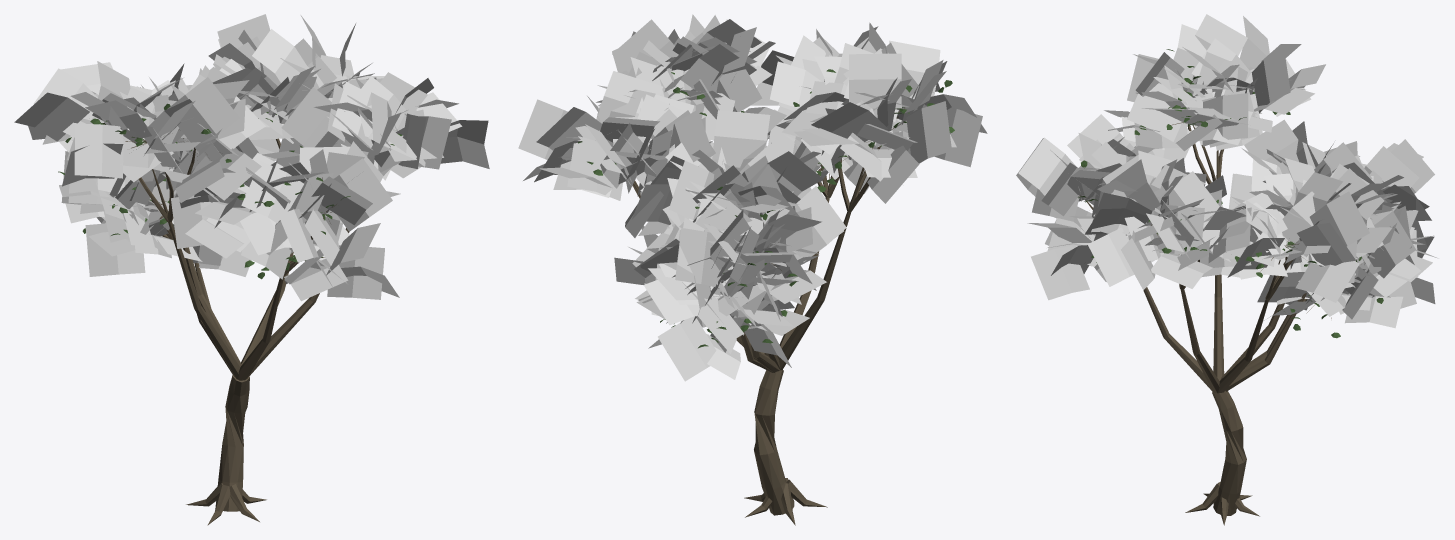
File: CheneVert_Dense_LOD1.fbx
3 renders of one model, left to right at view 1: azimuth 30°, elevation 25°; view 2: azimuth 150°, elevation 25°; view 3: azimuth 270°, elevation 25°, orthographic. The views are drawn at different scales.
Visible parts, largest first — view 1: CheneVert_Dense_LOD1; view 2: CheneVert_Dense_LOD1; view 3: CheneVert_Dense_LOD1.
Part boxes in pixels (bbox=[...]): CheneVert_Dense_LOD1: bbox=[14, 14, 489, 525]; CheneVert_Dense_LOD1: bbox=[518, 14, 987, 525]; CheneVert_Dense_LOD1: bbox=[1016, 14, 1438, 525].
Bounding box in the file's own units: 676 × 761 × 672.
